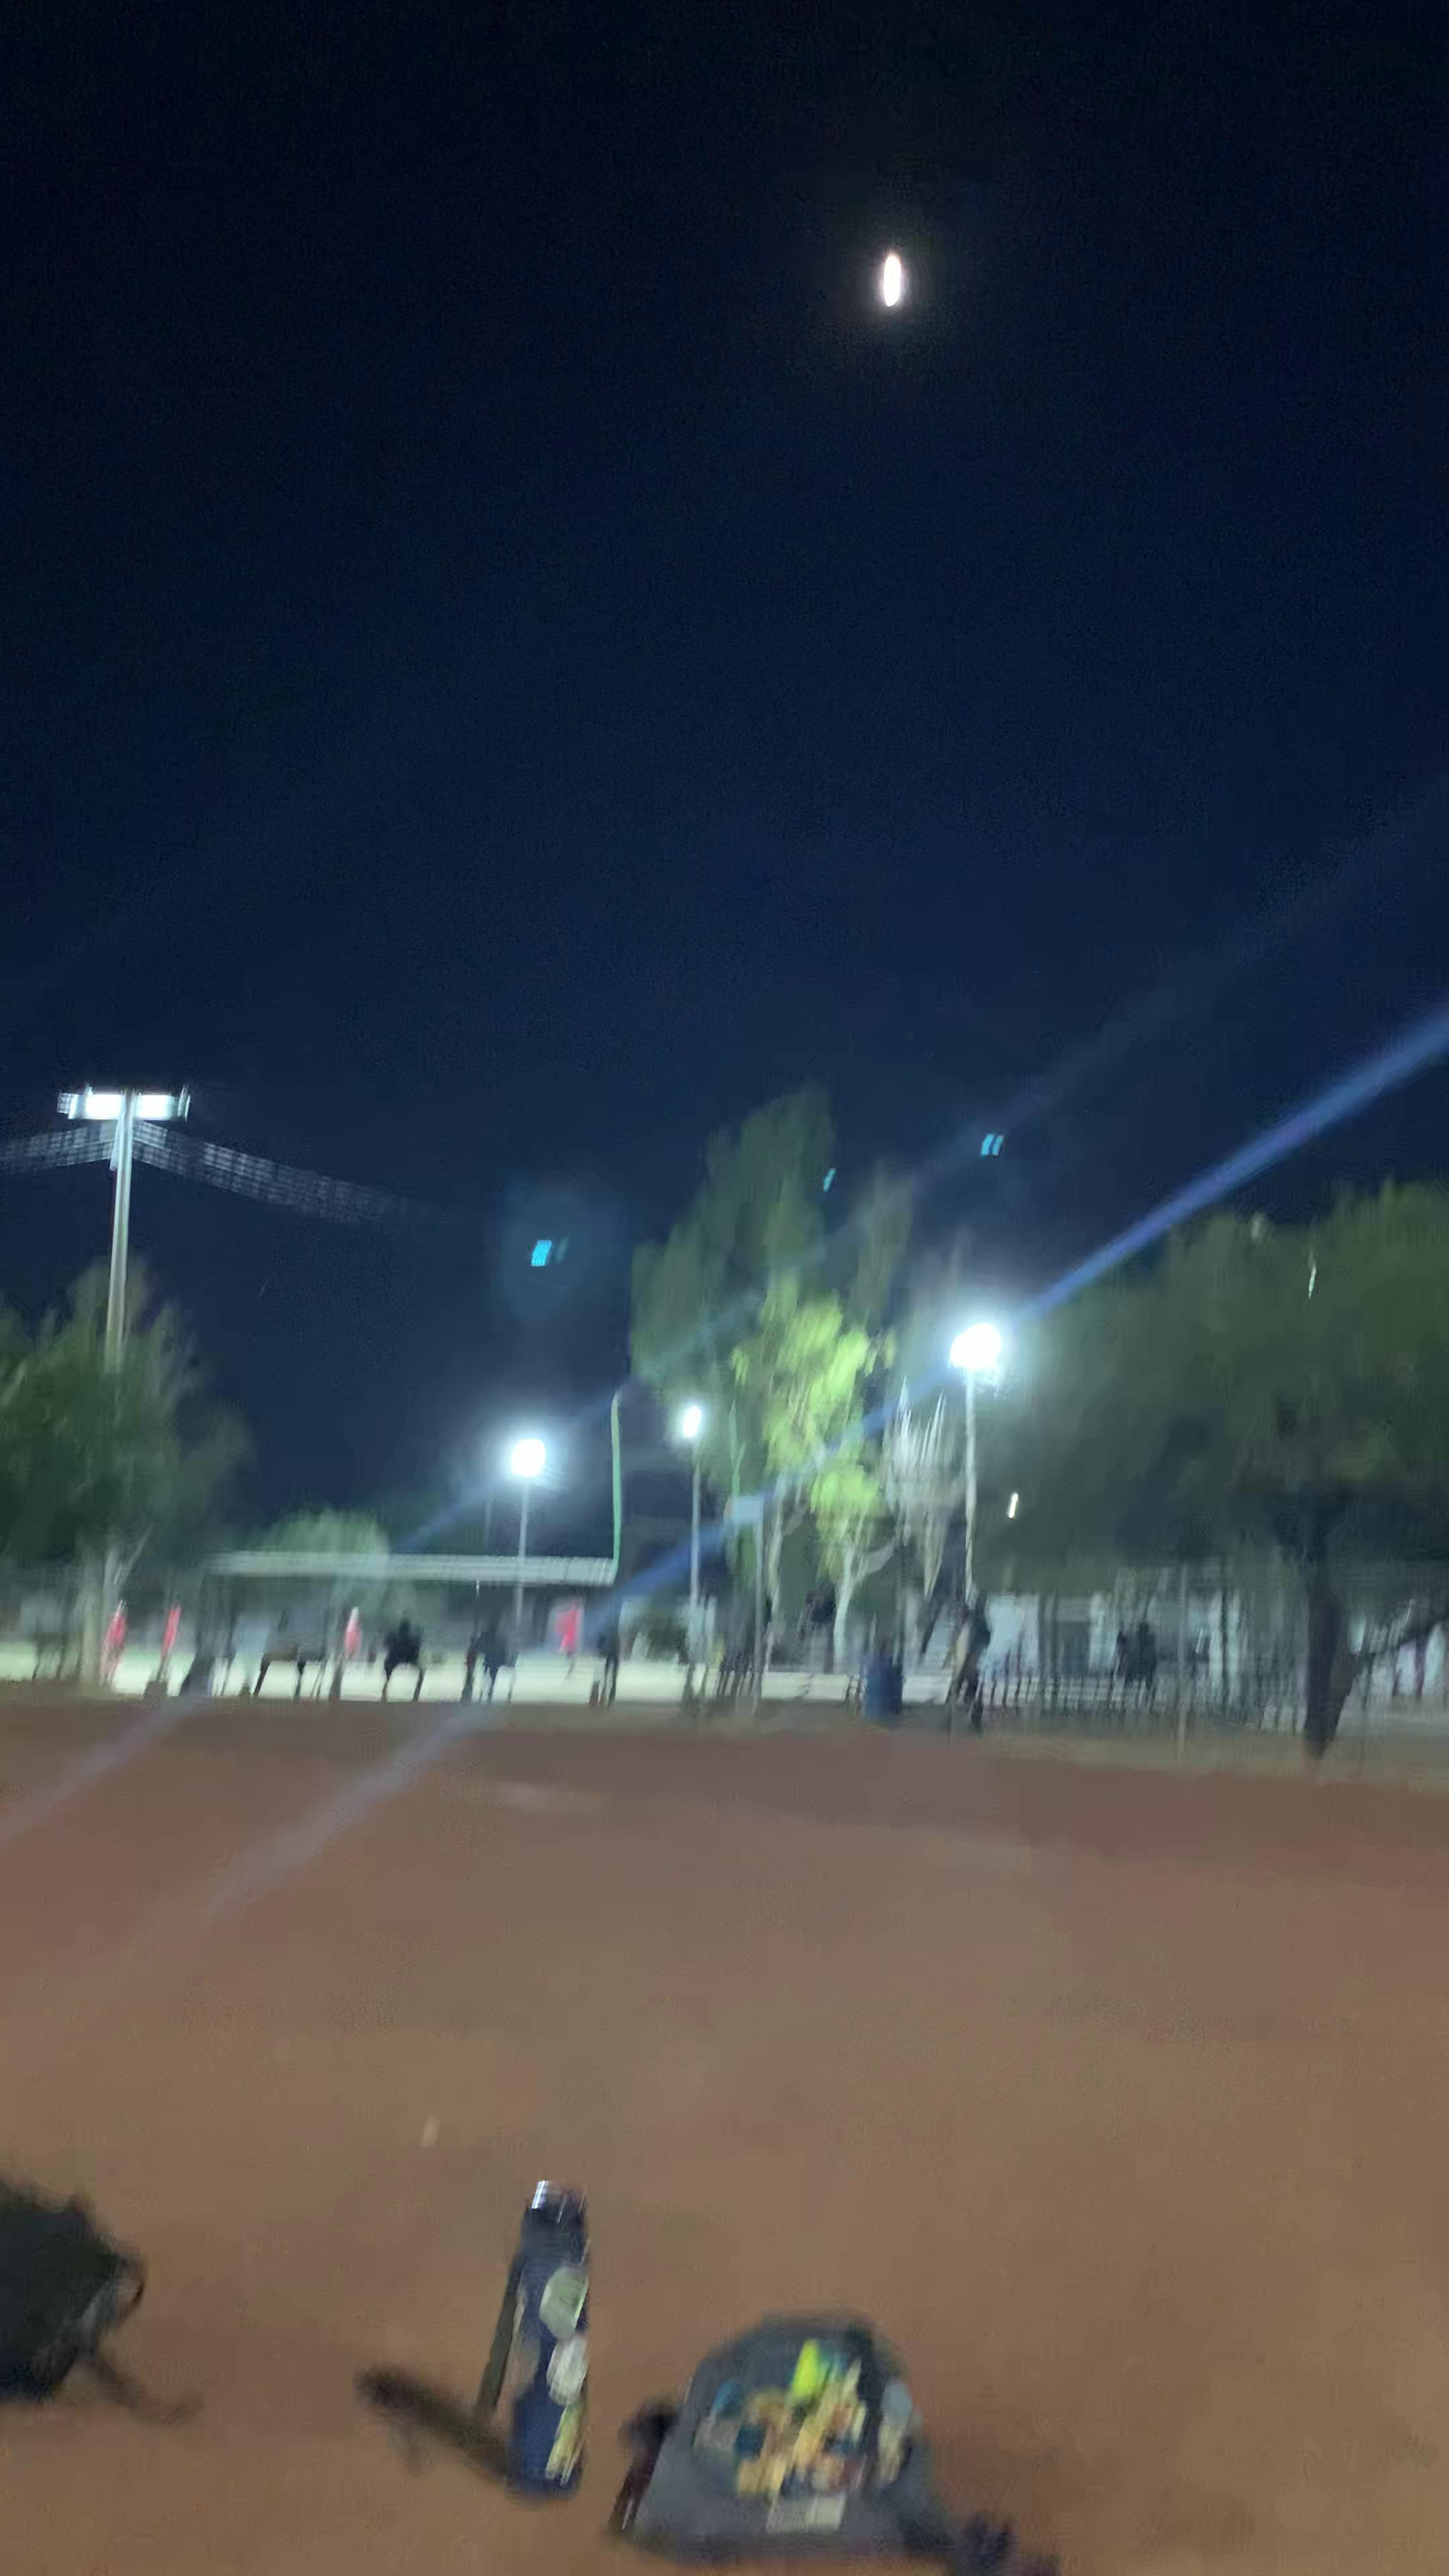moon: (847, 218, 948, 334)
